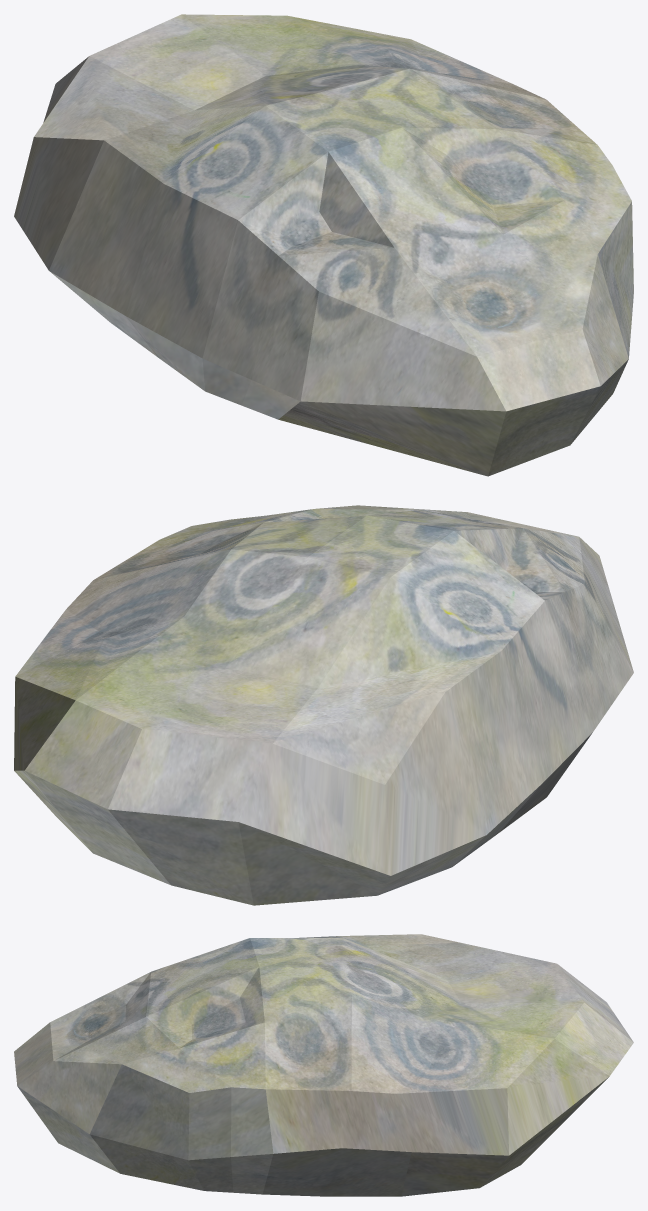
Rendered from boulderart.fbx.
3 views of the same model, one above another, from view 1: azimuth 30°, elevation 25°; view 2: azimuth 150°, elevation 25°; view 3: azimuth 270°, elevation 25° (orthographic). The views are drawn at different scales.
Visible parts, largest first — view 1: Cube; view 2: Cube; view 3: Cube.
Part boxes in pixels (x1,y1,x2,y2): Cube: (14, 14, 633, 476); Cube: (14, 505, 633, 905); Cube: (14, 934, 633, 1196).
Size of the model in its own units: 285 by 132 by 448.
Materials: 1 (1 with a texture image).
